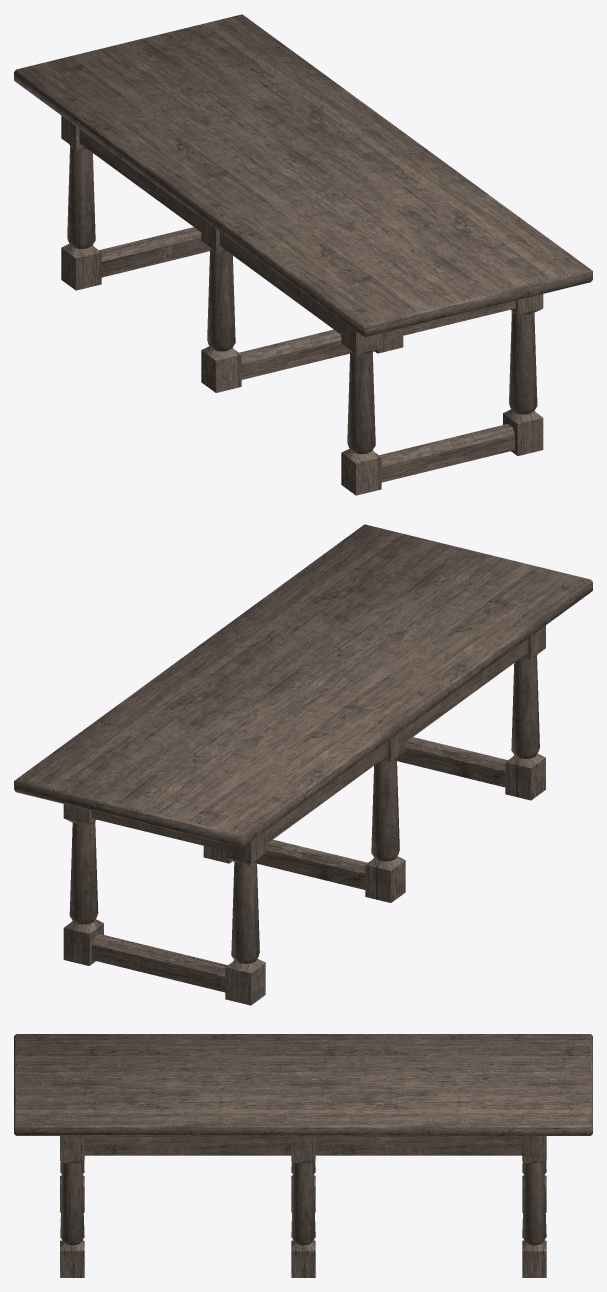
File: mw_table_06.FBX
The picture shows the model from 3 angles, top to bottom: view 1: azimuth 30°, elevation 25°; view 2: azimuth 150°, elevation 25°; view 3: azimuth 270°, elevation 25°; orthographic projection. The views are drawn at different scales.
Visible parts, largest first — view 1: mw_table_06; view 2: mw_table_06; view 3: mw_table_06.
Boxes of the visible parts, x1=… form: mw_table_06: x1=14, y1=14, x2=592, y2=495; mw_table_06: x1=14, y1=524, x2=592, y2=1005; mw_table_06: x1=14, y1=1034, x2=592, y2=1277.
Bounding box in the file's own units: 131 × 106 × 346.
